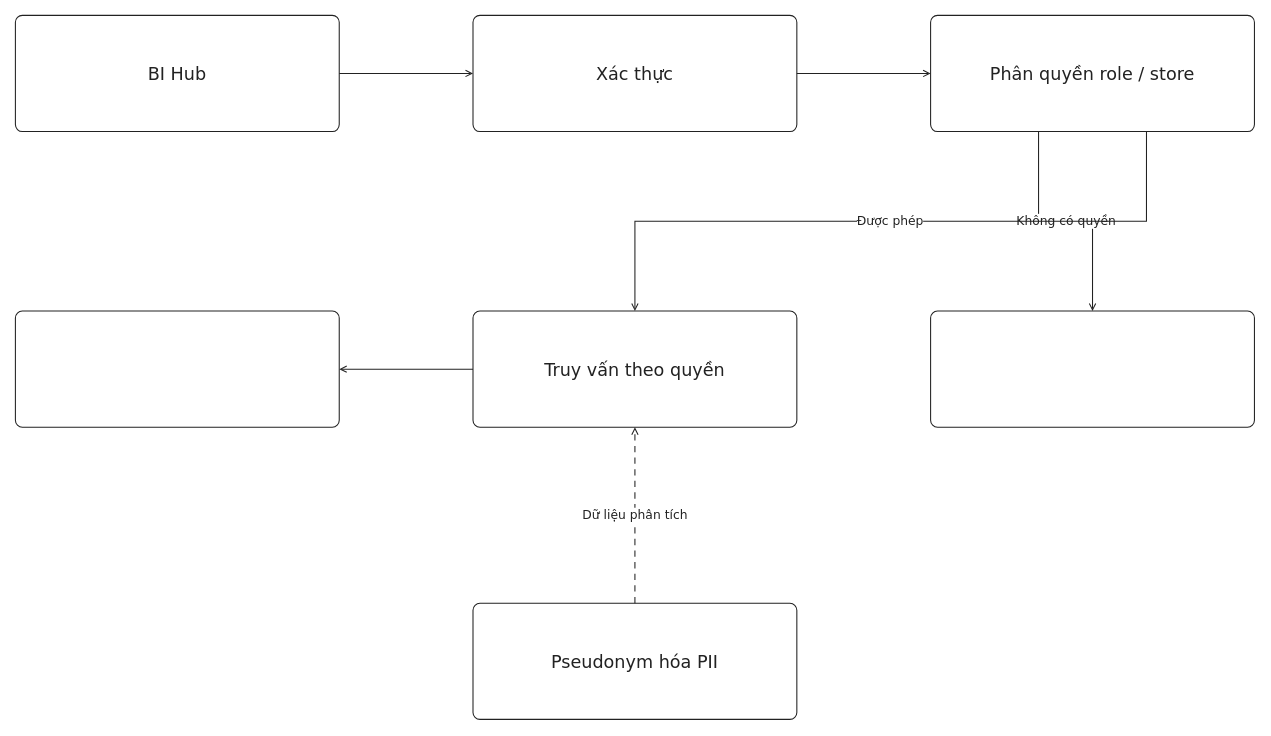
This 1271x736 diagram has some shape labels left out. The shapes that lost their labels are listed below. From the top down, each one's centre as x and y in pixels, then its label:
At point 176,368: "Dashboard".
At point 1092,368: "Từ chối truy cập".
